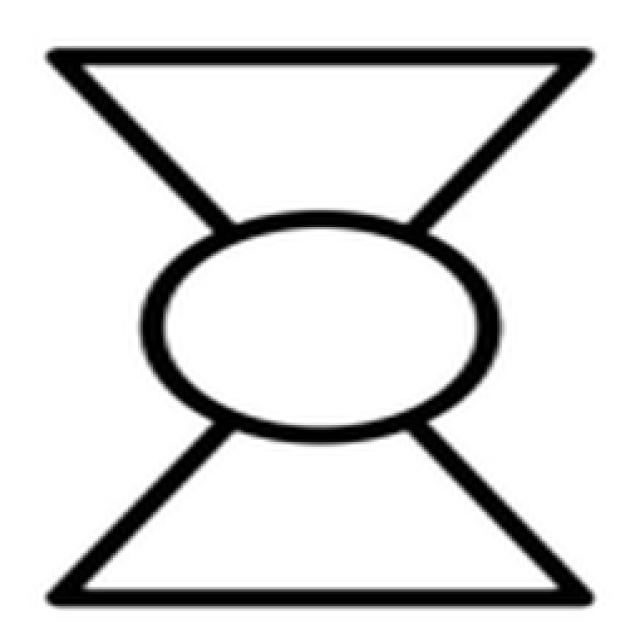ball valve: (56, 58, 592, 596)
